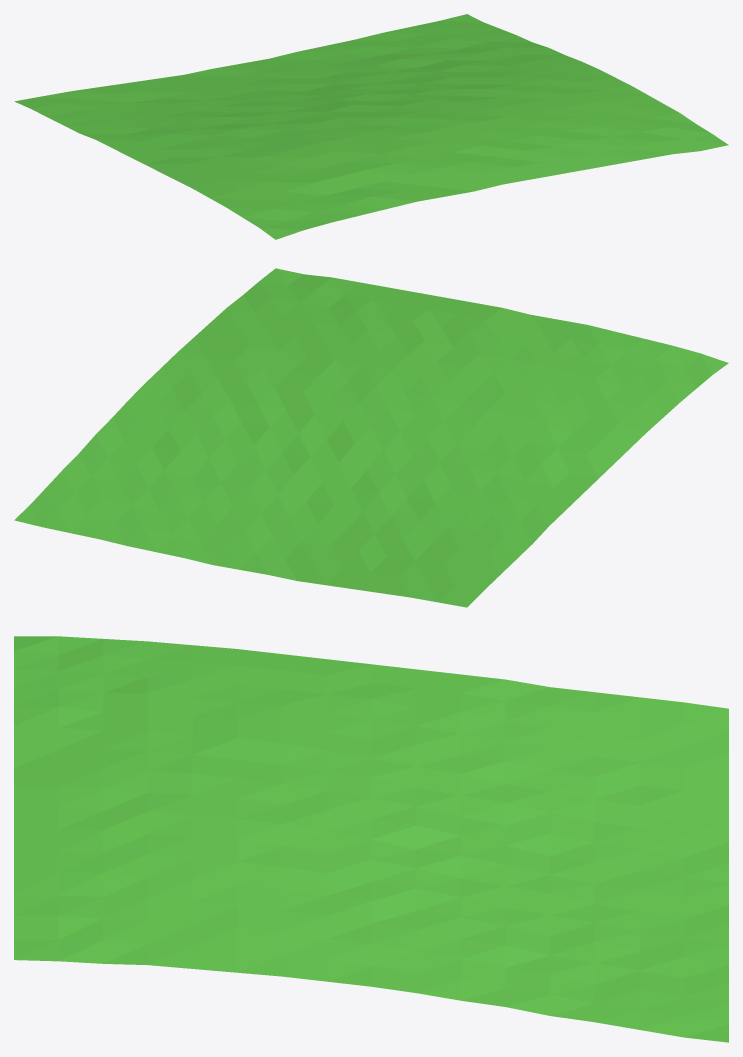
The model's file is natura_world_206.gltf.
3 views of the same model, one above another, from view 1: azimuth 30°, elevation 25°; view 2: azimuth 150°, elevation 25°; view 3: azimuth 270°, elevation 25° (orthographic). The views are drawn at different scales.
Parts seen in each view (by area): view 1: natura_world.206; view 2: natura_world.206; view 3: natura_world.206.
Boxes of the visible parts, x1=… form: natura_world.206: x1=14, y1=14, x2=728, y2=239; natura_world.206: x1=14, y1=268, x2=728, y2=607; natura_world.206: x1=14, y1=636, x2=728, y2=1042.
Size of the model in its own units: 0.125 by 0.0211 by 0.125.
